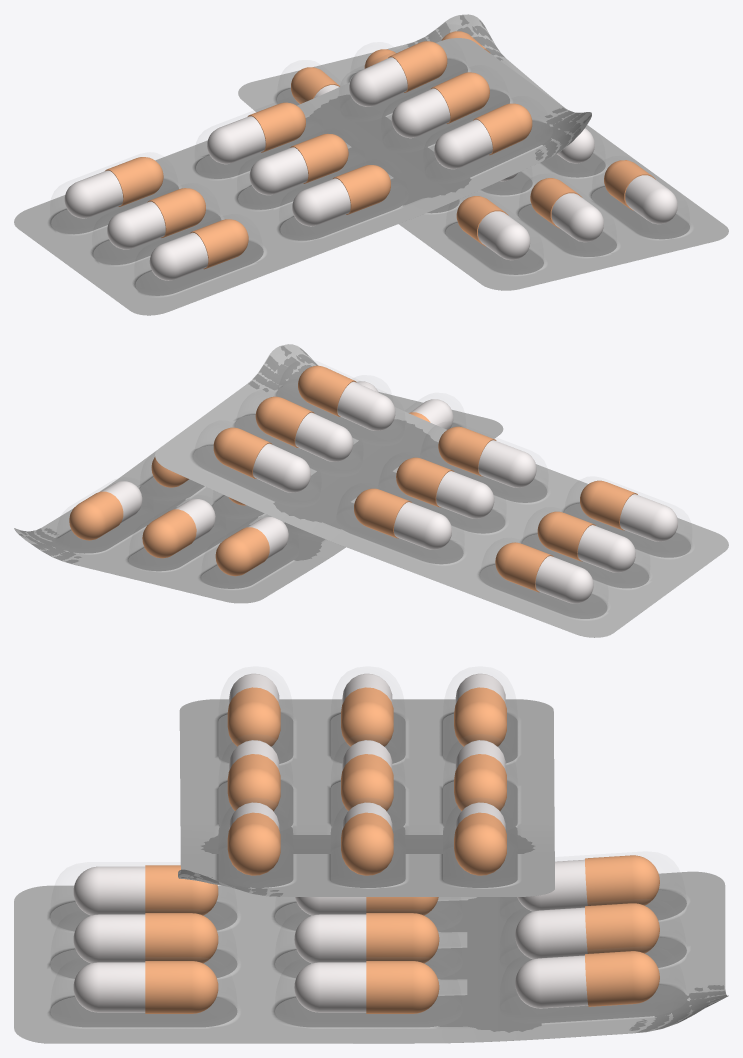
File: Pill_Convert.fbx
The picture shows the model from 3 angles, top to bottom: view 1: azimuth 30°, elevation 25°; view 2: azimuth 150°, elevation 25°; view 3: azimuth 270°, elevation 25°; orthographic projection. The views are drawn at different scales.
Visible parts, largest first — view 1: Pill_Bottle:Circle06; view 2: Pill_Bottle:Circle06; view 3: Pill_Bottle:Circle06.
Part boxes in pixels (box(x1,y1,x2,y2)): Pill_Bottle:Circle06: box(14, 14, 728, 315); Pill_Bottle:Circle06: box(14, 344, 728, 637); Pill_Bottle:Circle06: box(14, 673, 728, 1043).
Size of the model in its own units: 219 by 40.14 by 191.
